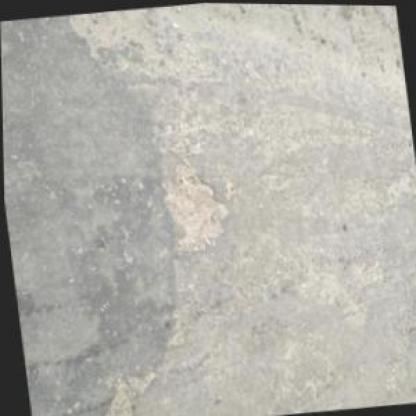pothole: (158, 168, 236, 258), (98, 378, 136, 414)
